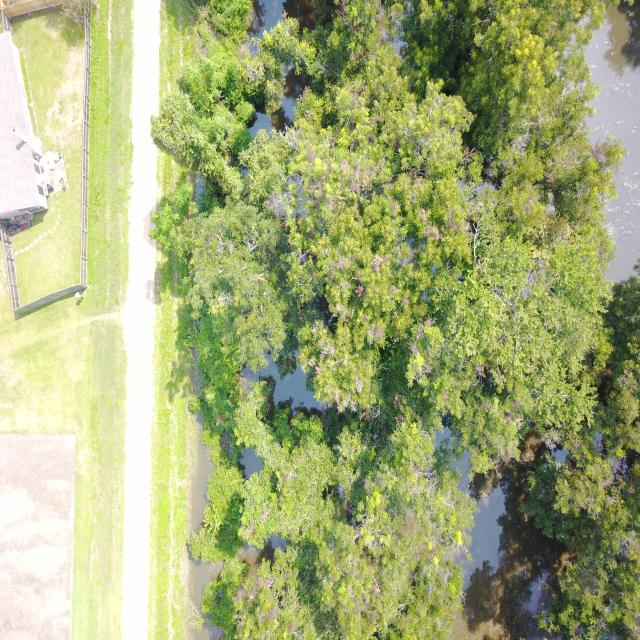fire: (452, 465, 570, 640), (587, 4, 640, 281), (262, 360, 323, 410), (249, 79, 300, 137), (250, 0, 286, 39), (452, 452, 472, 493)
